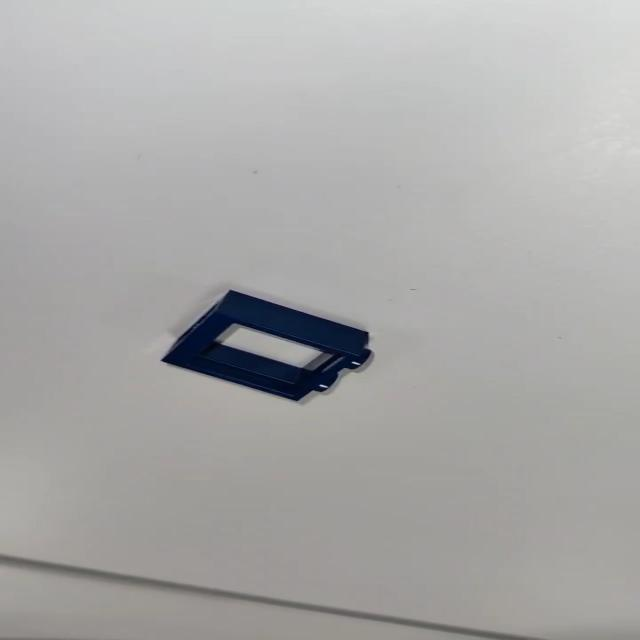W2x1x2: (158, 286, 390, 411)
